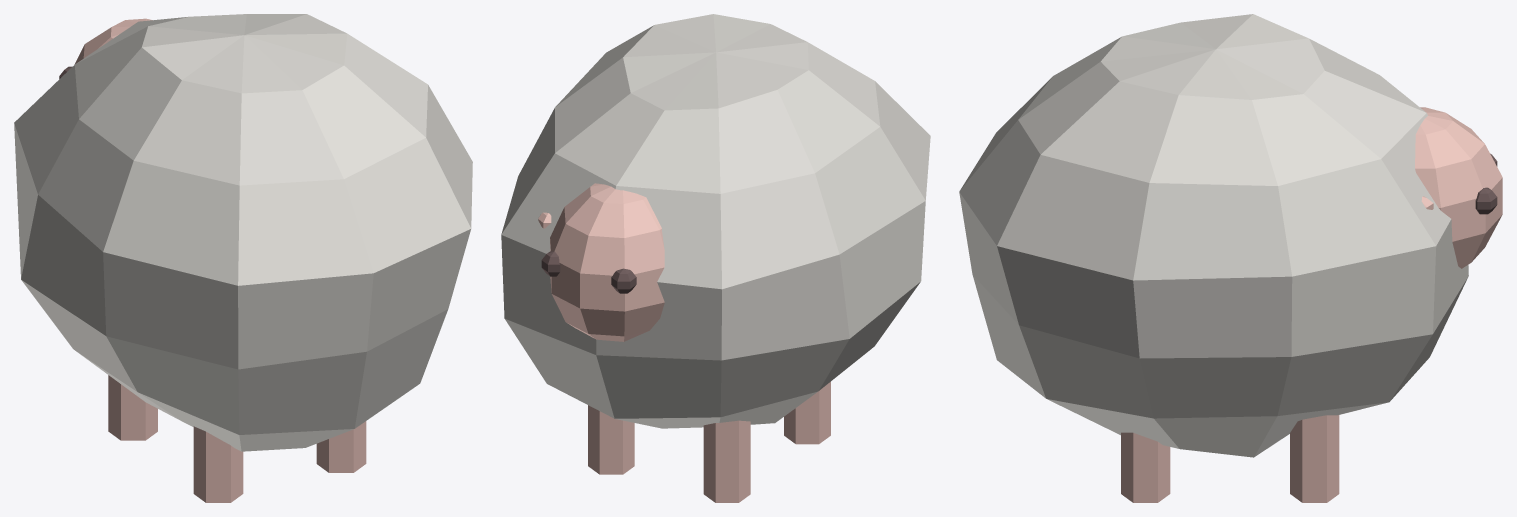
The model's file is lamb.glb.
3 views of the same model, side by side, from view 1: azimuth 30°, elevation 25°; view 2: azimuth 150°, elevation 25°; view 3: azimuth 270°, elevation 25° (orthographic). The views are drawn at different scales.
Parts seen in each view (by area): view 1: lamb; view 2: lamb; view 3: lamb.
Boxes of the visible parts, box(x1,y1,x2,y2) form: lamb: box(14, 14, 472, 502); lamb: box(501, 14, 930, 502); lamb: box(959, 14, 1502, 502).
Size of the model in its own units: 0.6009 by 0.6494 by 0.7711.
